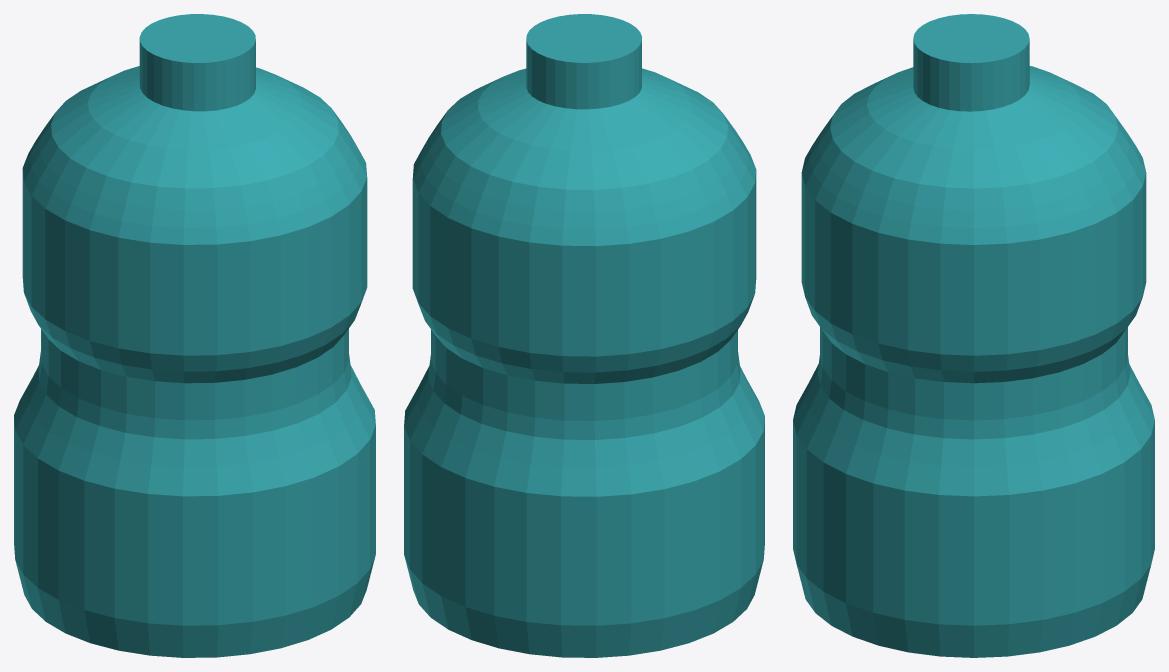
File: Ополаскиватель2Unity.fbx
The picture shows the model from 3 angles, left to right: view 1: azimuth 30°, elevation 25°; view 2: azimuth 150°, elevation 25°; view 3: azimuth 270°, elevation 25°; orthographic projection.
Visible parts, largest first — view 1: Cylinder; view 2: Cylinder; view 3: Cylinder.
Part boxes in pixels (x1=…): Cylinder: x1=14, y1=14, x2=375, y2=657; Cylinder: x1=404, y1=14, x2=764, y2=657; Cylinder: x1=793, y1=14, x2=1154, y2=657.
Size of the model in its own units: 113 by 188 by 112.
